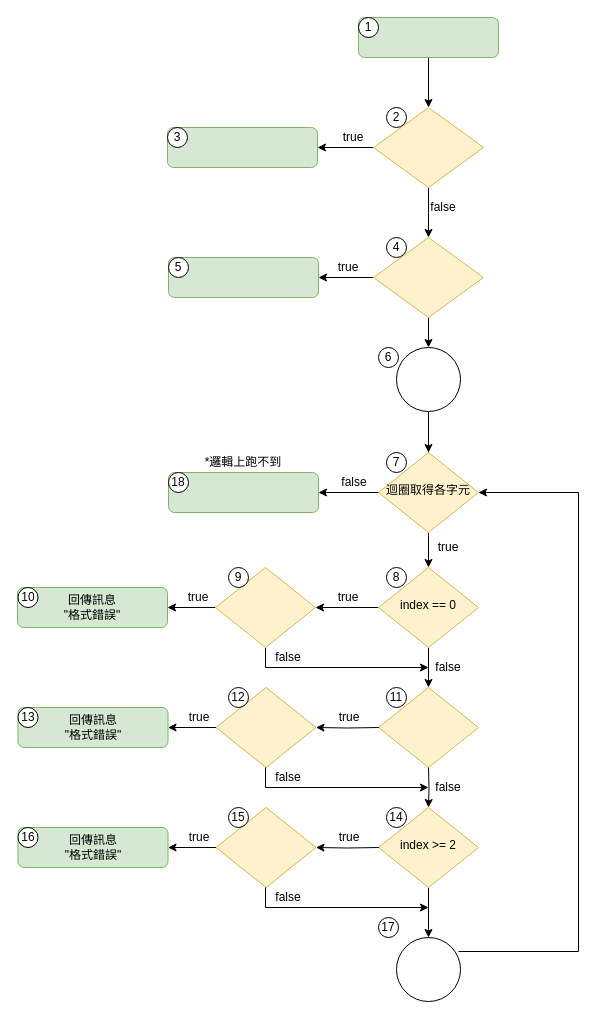
This 604x1019 diagram has some shape labels left out. The box of each missing label's shape, as (x1, y1, x2, y2) in pixels:
index == 1: (378, 686, 478, 768)
index++: (396, 936, 460, 1002)
int index=0: (396, 346, 460, 412)
回傳訊息 "輸入的資料為空": (166, 126, 318, 168)
回傳訊息 "長度錯誤": (168, 256, 318, 298)
字元皆為數字 回傳訊息 "輸入正確": (168, 472, 318, 512)
第一碼不為0: (214, 566, 316, 648)
第三至十碼 不為數字: (215, 806, 316, 888)
第二碼不為9: (215, 686, 316, 768)
輸入null: (372, 106, 484, 188)
輸入手機號碼: (358, 16, 498, 58)
輸入長度不為10碼: (372, 236, 484, 318)
